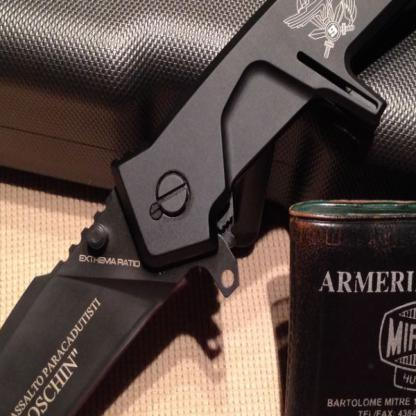knife: (0, 160, 199, 415)
